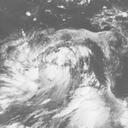cyclone: (36, 46, 85, 93)
